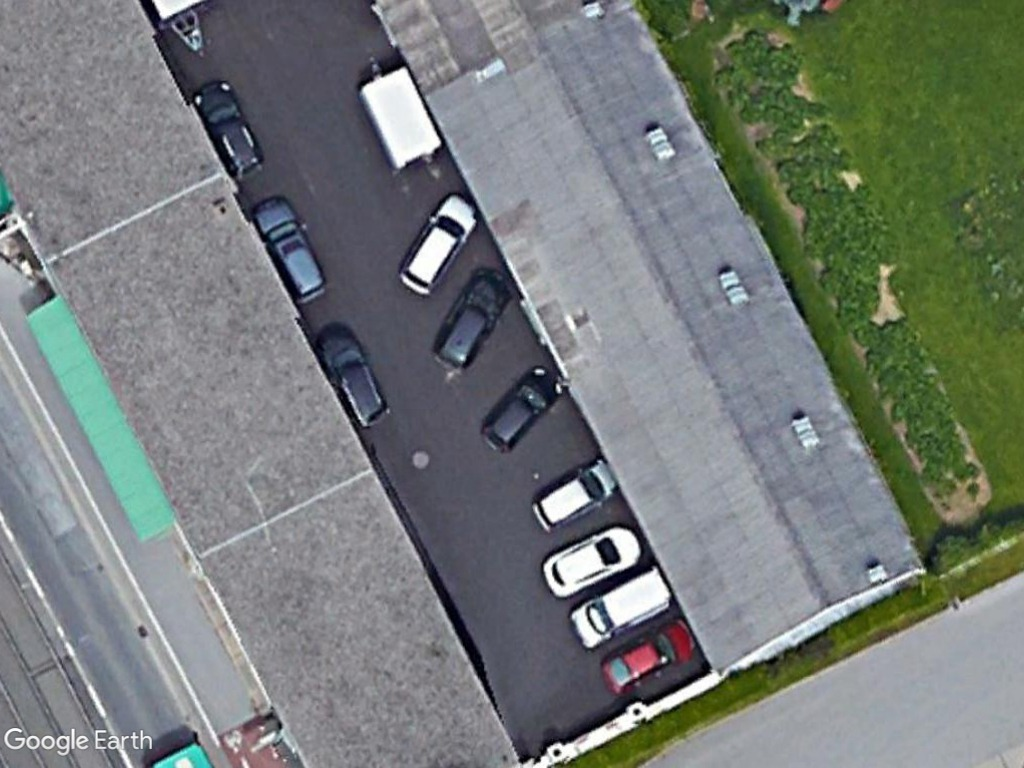car: (184, 70, 270, 191), (426, 267, 517, 375), (395, 188, 484, 297), (246, 192, 328, 309), (594, 611, 702, 697), (309, 324, 392, 435), (537, 518, 651, 597), (476, 363, 565, 455), (527, 452, 625, 534)
van: (563, 557, 679, 652)
